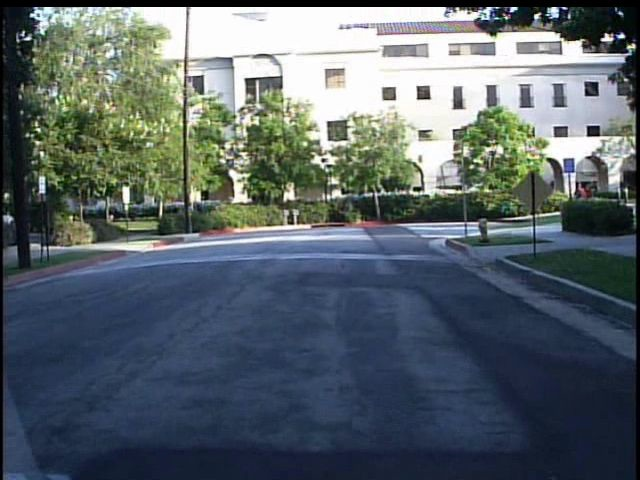person: (572, 180, 591, 224)
